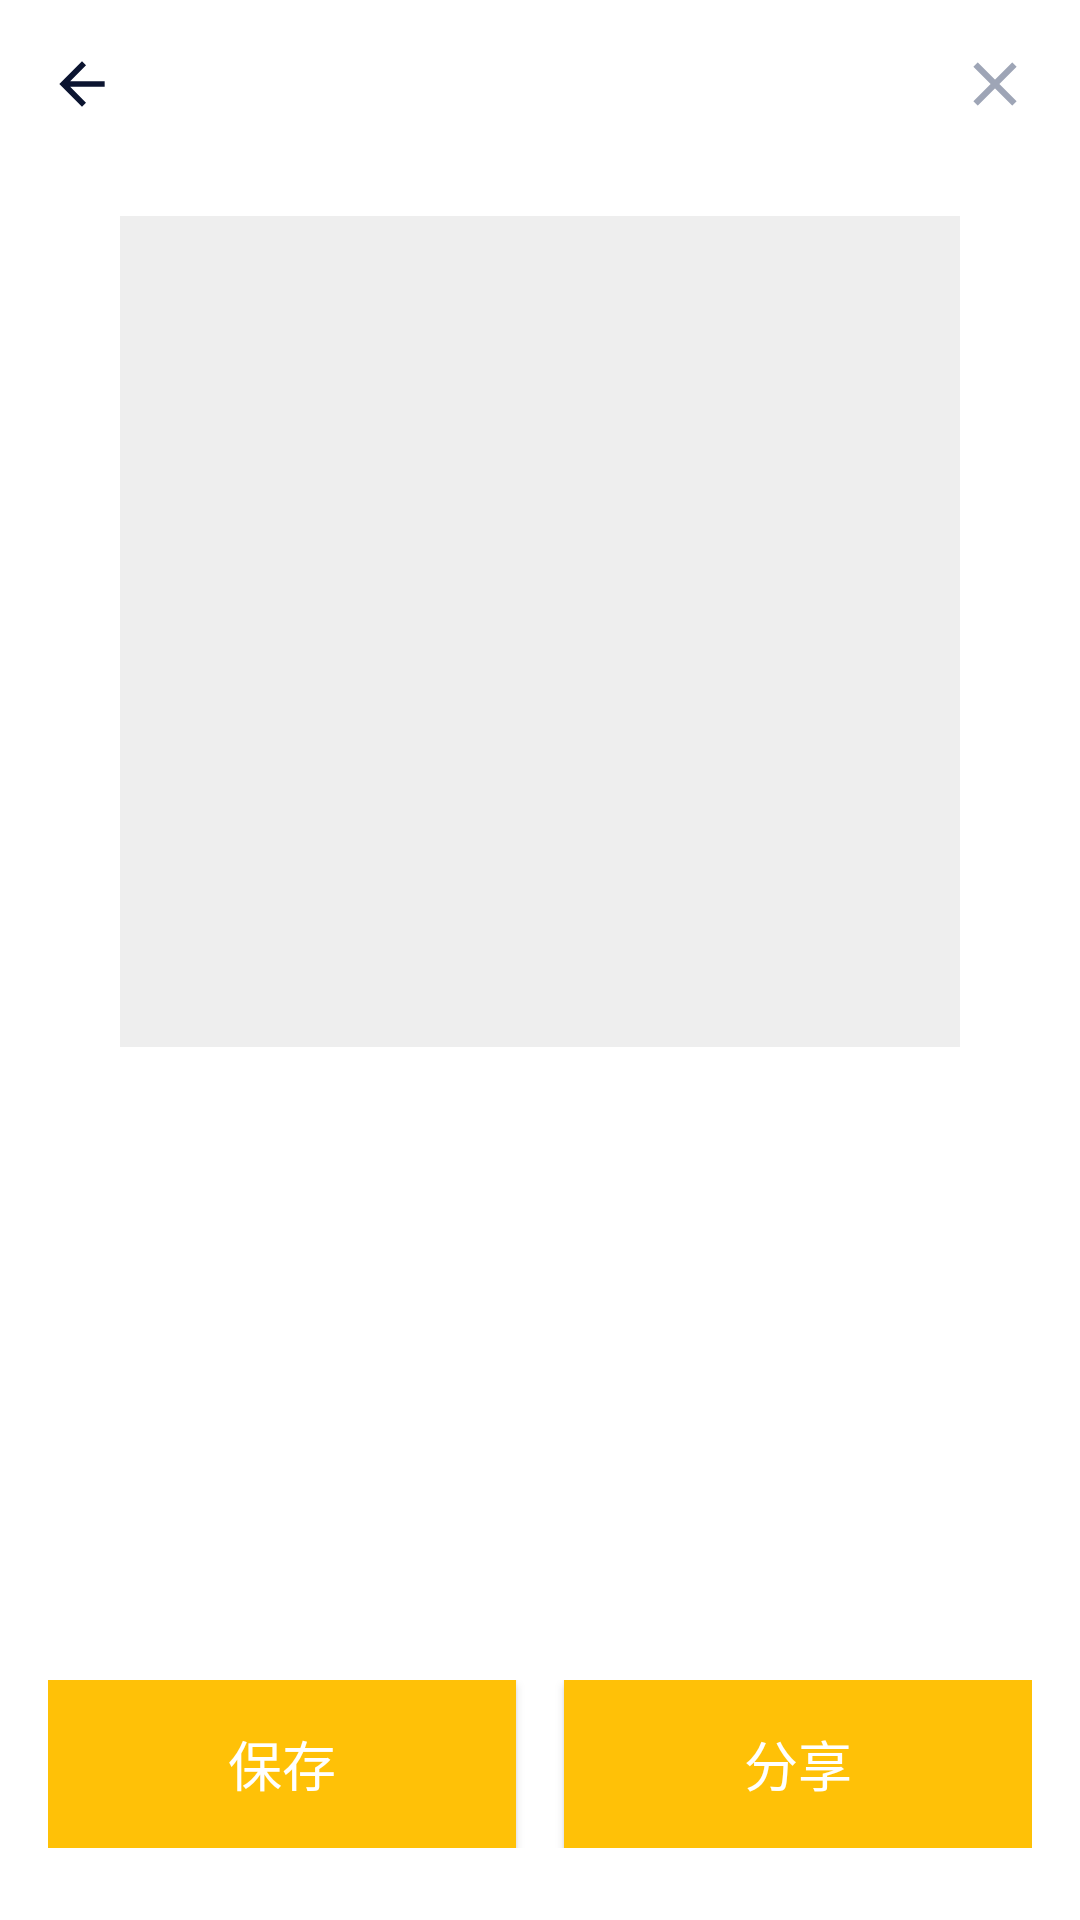

Icons on this 1080px×1920px Android screen, each with the point to tap as (x=x, y=y):
arrow back: (x=82, y=84)
close: (x=995, y=84)
